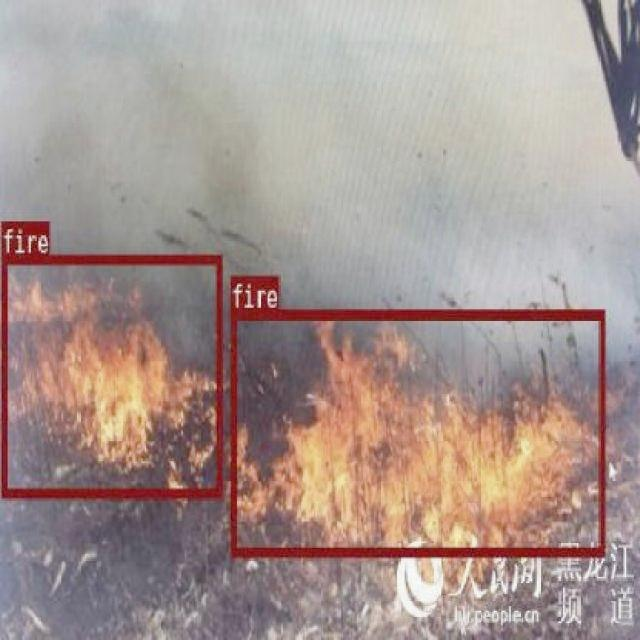fire: (229, 308, 603, 554), (0, 254, 222, 496)
